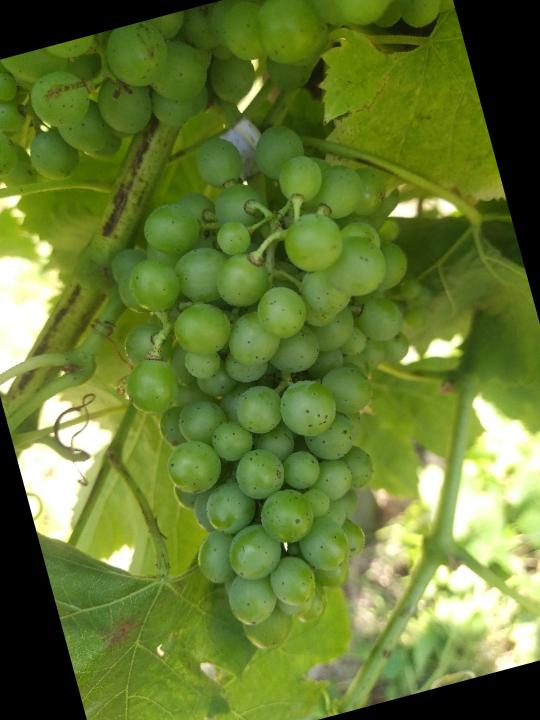grape: (65, 94, 498, 673)
